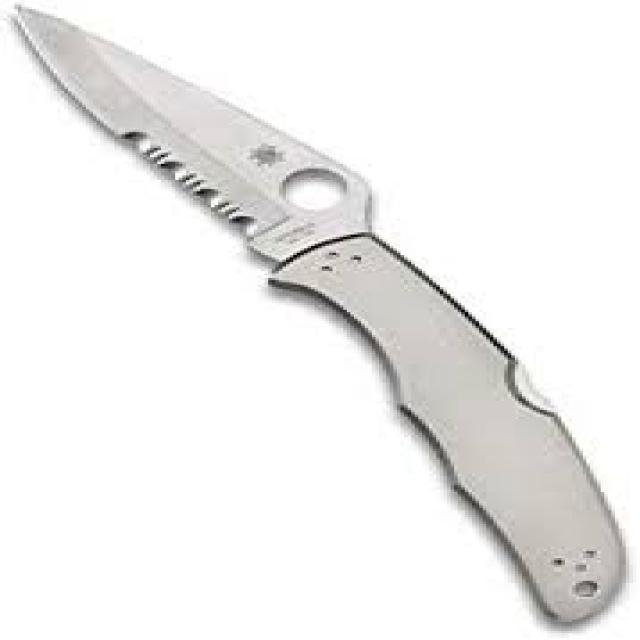knife: (8, 2, 640, 633)
